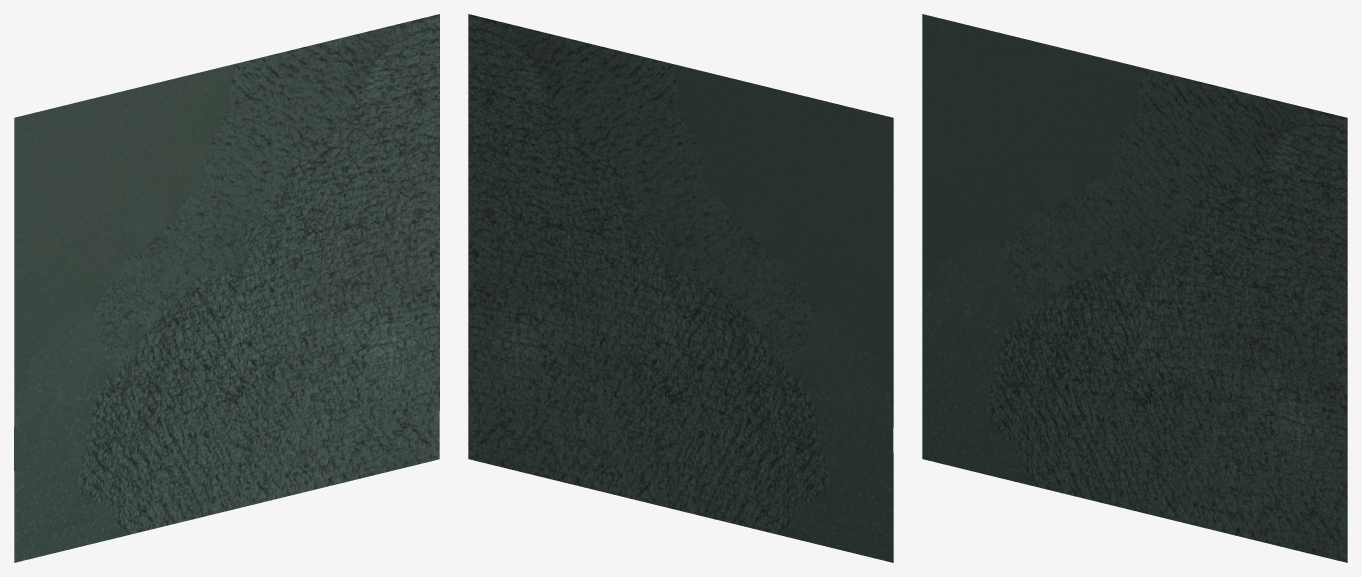
File: Tile_+1993_+2680.obj
The picture shows the model from 3 angles, left to right: view 1: azimuth 30°, elevation 25°; view 2: azimuth 150°, elevation 25°; view 3: azimuth 330°, elevation 25°; orthographic projection.
Bounding box in the file's own units: 252 × 252 × 0.5606.
Materials: 1 (1 with a texture image).
